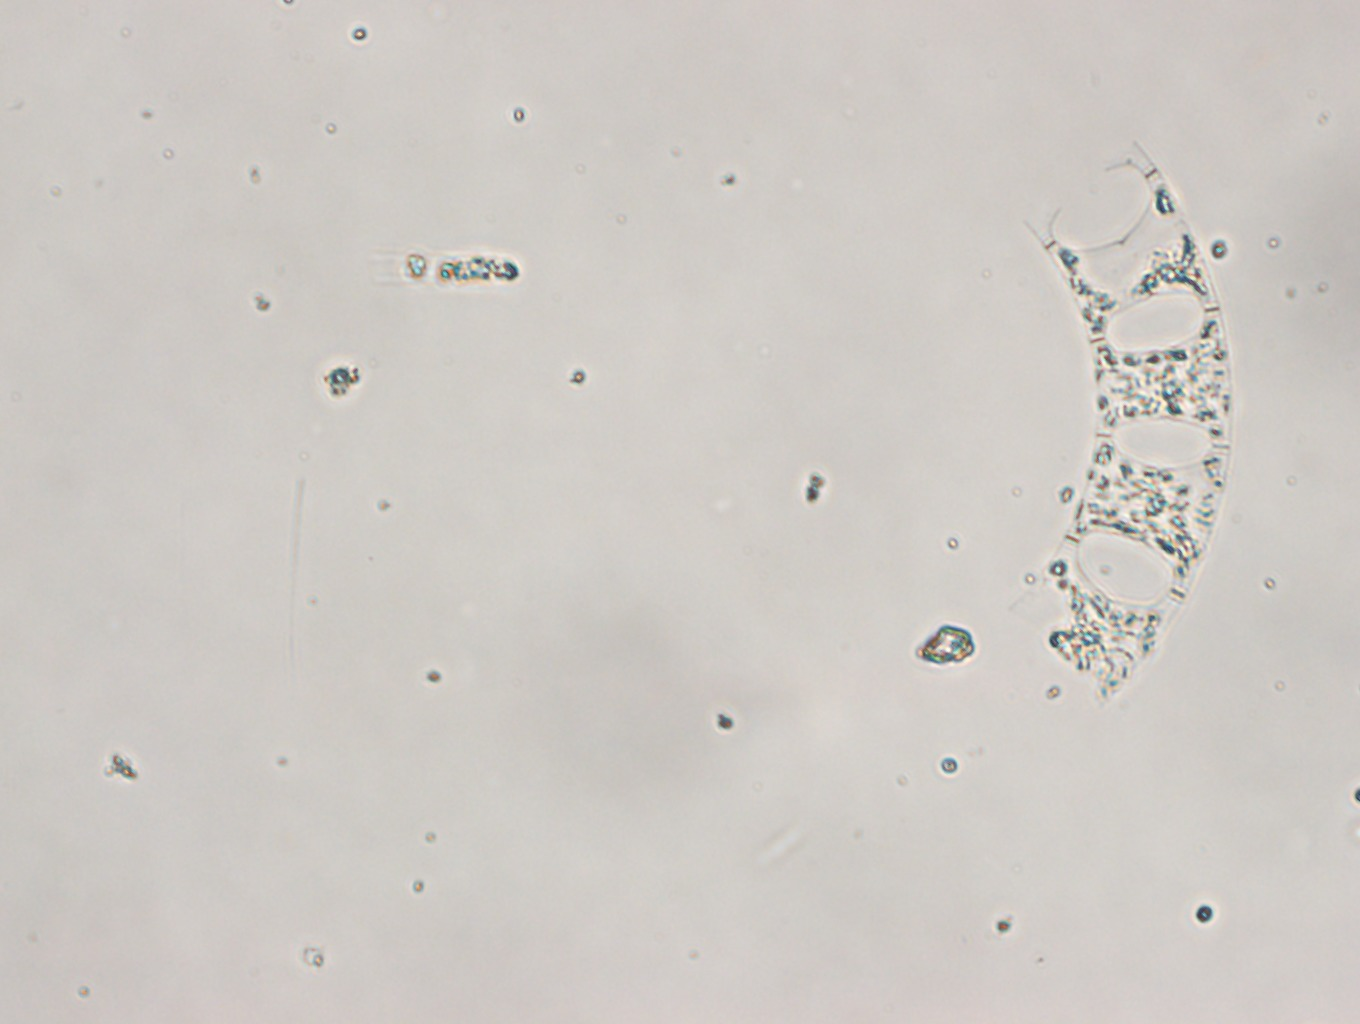eucampia: (1017, 141, 1234, 710)
